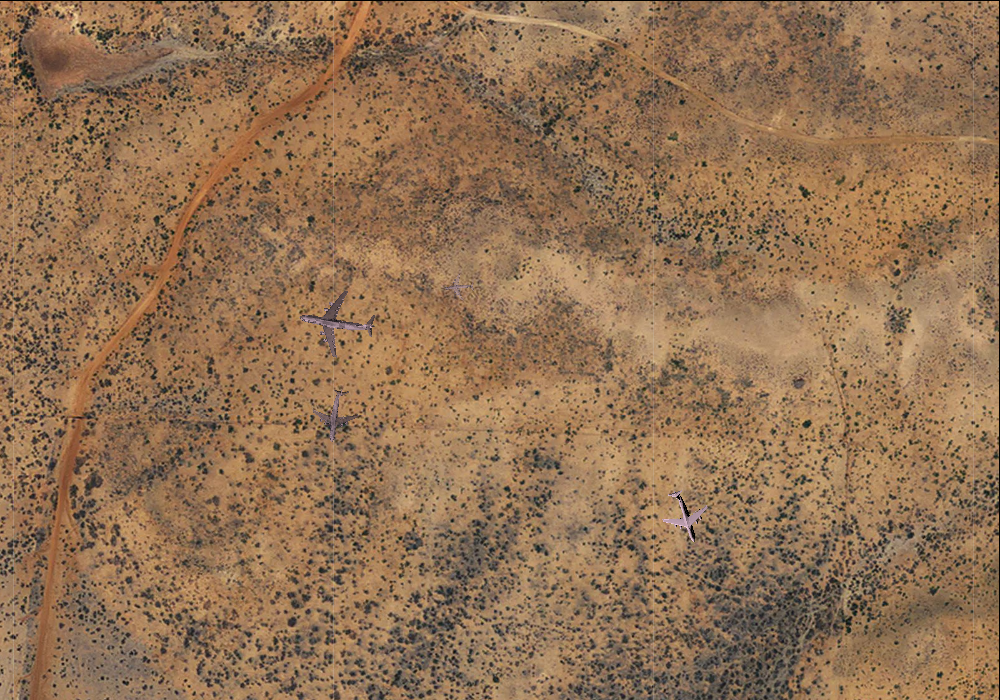plane: (293, 279, 380, 364), (651, 482, 717, 550), (307, 386, 364, 445), (442, 271, 475, 303)
